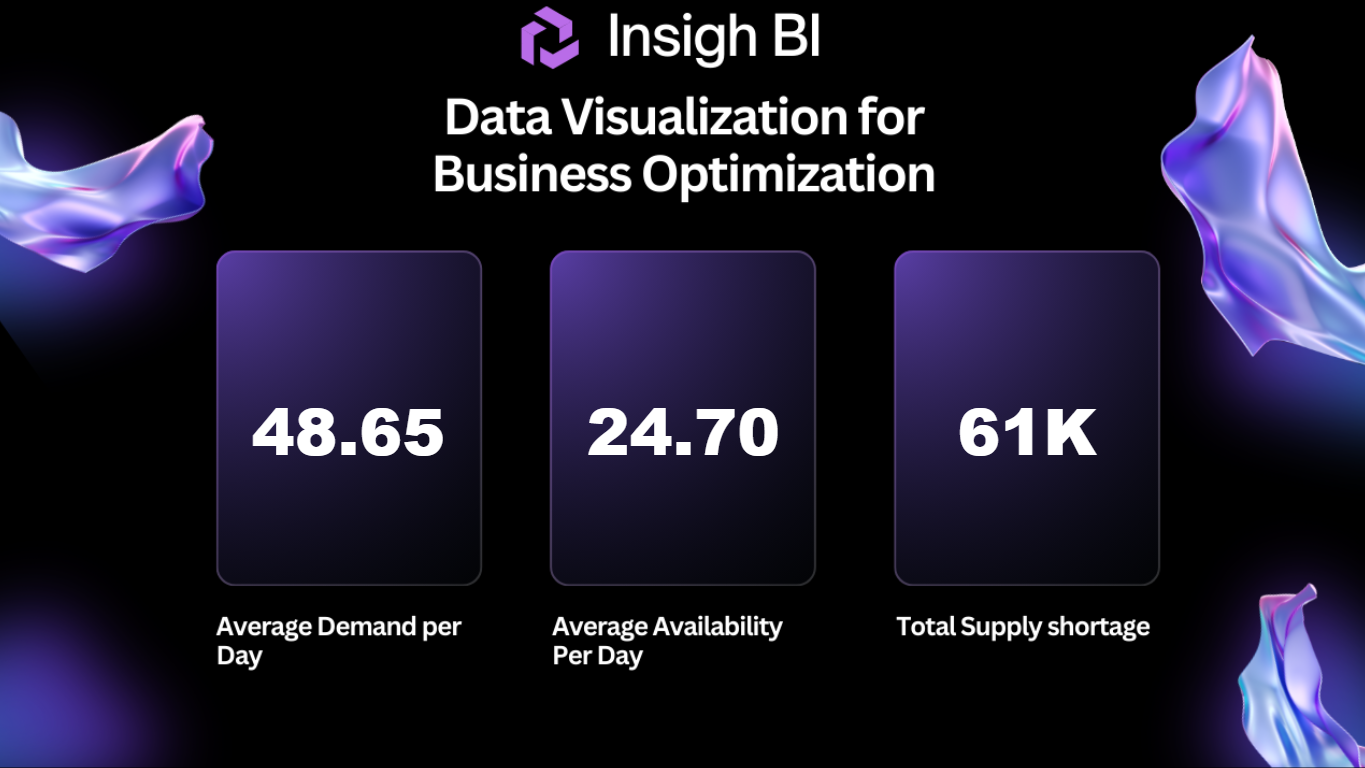

Layout of this report page (visuals, bound fields, positions):
{"tool":"powerbi","page":{"name":"Page 1","canvas":[1280,720],"ordinal":0},"visuals":[{"type":"card","fields":{"Values":["Measures Table.Average Demand Per Day"]},"box":[211.2,271,234.9,259.7],"z":0},{"type":"card","fields":{"Values":["Measures Table.Average Availabilty Per Day"]},"box":[522.8,271,234.9,259.7],"z":1000},{"type":"card","fields":{"Values":["Measures Table.Total Supply Shortage"]},"box":[843.5,271,234.9,259.7],"z":2000}]}

Visuals, with their boxes in screenshot pixels (x1, y1, x2, y2), scaled from the page's 1280x720 canvas onto the 1365x768 screenshot:
card - Measures Table.Average Demand Per Day: region(225, 289, 476, 566)
card - Measures Table.Average Availabilty Per Day: region(558, 289, 808, 566)
card - Measures Table.Total Supply Shortage: region(900, 289, 1150, 566)
